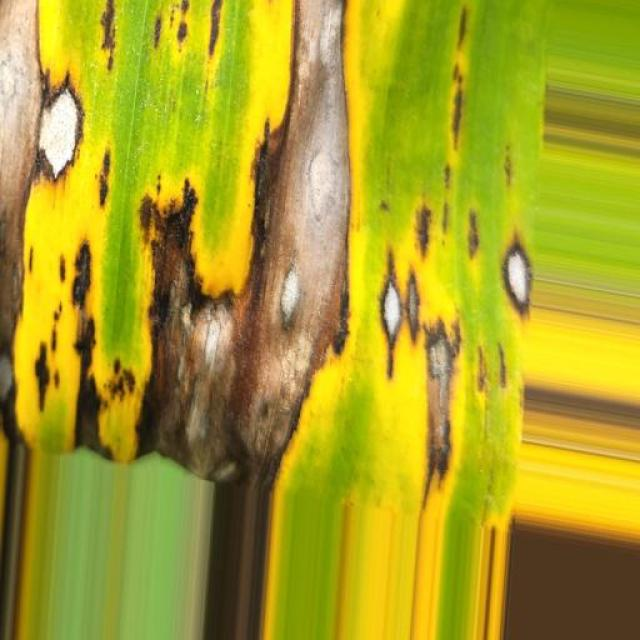Early_rust: (0, 29, 549, 510)
